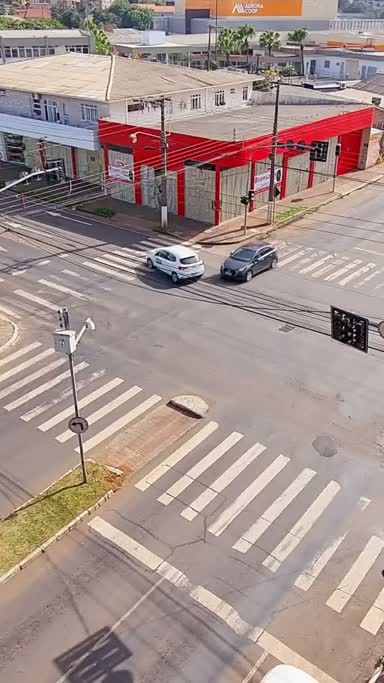car: (218, 229, 279, 294), (141, 236, 206, 294)
